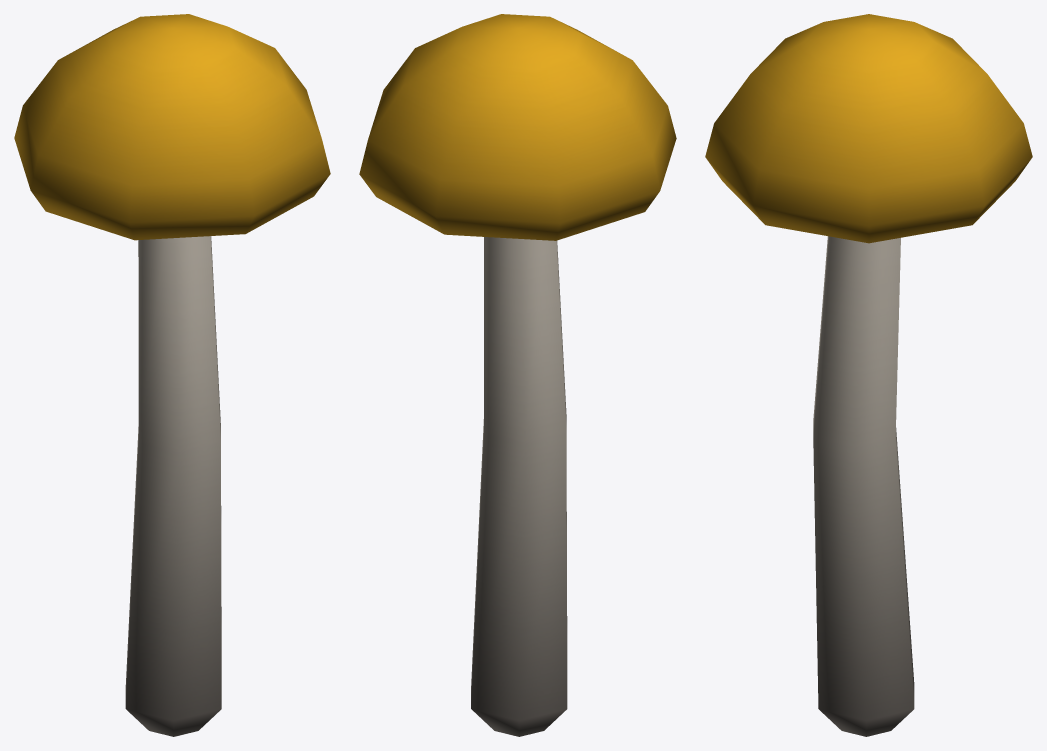
The model's file is SM_Mushroom_10.fbx.
The picture shows the model from 3 angles, left to right: view 1: azimuth 30°, elevation 25°; view 2: azimuth 150°, elevation 25°; view 3: azimuth 270°, elevation 25°; orthographic projection.
Parts seen in each view (by area): view 1: Mushroom_10; view 2: Mushroom_10; view 3: Mushroom_10.
Boxes of the visible parts, left/top/right/bottom form: Mushroom_10: left=14, top=14, right=330, bottom=736; Mushroom_10: left=359, top=14, right=676, bottom=736; Mushroom_10: left=705, top=14, right=1032, bottom=736.
Bounding box in the file's own units: 201 × 470 × 201.
Materials: 1 (1 with a texture image).
